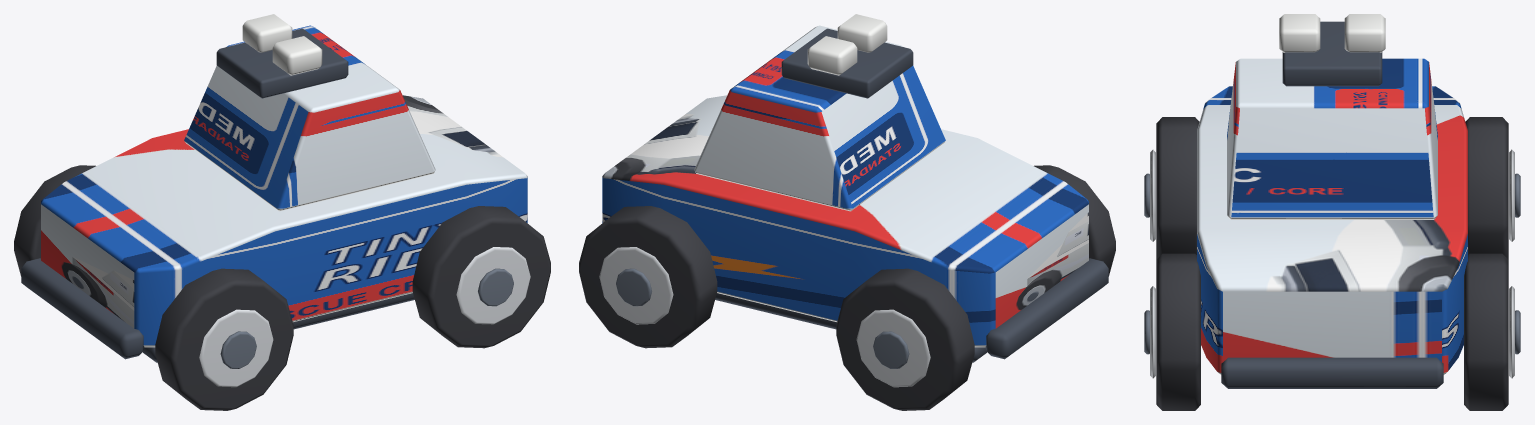
3 renders of one model, left to right at view 1: azimuth 30°, elevation 25°; view 2: azimuth 150°, elevation 25°; view 3: azimuth 270°, elevation 25°, orthographic. The views are drawn at different scales.
Parts seen in each view (by area): view 1: RC-02_connected_shell, RC-02_cabin, Tire, Tire.002, front bumper, beacon mount, Rim, Rim.002, Tire.001, beacon lens, beacon lens.001, underbody (+2 smaller); view 2: RC-02_connected_shell, RC-02_cabin, Tire.001, Tire.003, front bumper, beacon mount, Rim.001, Rim.003, Tire, beacon lens.001, beacon lens, underbody (+2 smaller); view 3: RC-02_connected_shell, RC-02_cabin, rear bumper, Tire.002, Tire.003, Tire, Tire.001, beacon mount, beacon lens, beacon lens.001, Rim.002, Rim.003 (+2 smaller).
Boxes of the visible parts, x1=… form: RC-02_connected_shell: x1=41, y1=95, x2=527, y2=347; RC-02_cabin: x1=184, y1=25, x2=435, y2=211; Tire: x1=155, y1=268, x2=293, y2=410; Tire.002: x1=412, y1=206, x2=550, y2=348; front bumper: x1=21, y1=258, x2=144, y2=359; beacon mount: x1=216, y1=28, x2=348, y2=98; Rim: x1=199, y1=309, x2=273, y2=387; Rim.002: x1=456, y1=247, x2=530, y2=324; Tire.001: x1=14, y1=165, x2=95, y2=276; beacon lens: x1=272, y1=36, x2=322, y2=75; beacon lens.001: x1=242, y1=14, x2=292, y2=52; underbody: x1=142, y1=293, x2=414, y2=362; RC-02_connected_shell: x1=602, y1=95, x2=1088, y2=347; RC-02_cabin: x1=694, y1=25, x2=945, y2=211; Tire.001: x1=836, y1=268, x2=974, y2=410; Tire.003: x1=579, y1=206, x2=717, y2=348; front bumper: x1=985, y1=258, x2=1108, y2=359; beacon mount: x1=781, y1=28, x2=913, y2=98; Rim.001: x1=856, y1=309, x2=930, y2=387; Rim.003: x1=599, y1=247, x2=673, y2=324; Tire: x1=1034, y1=165, x2=1115, y2=276; beacon lens.001: x1=807, y1=36, x2=857, y2=75; beacon lens: x1=837, y1=14, x2=887, y2=52; underbody: x1=715, y1=293, x2=987, y2=362; RC-02_connected_shell: x1=1197, y1=86, x2=1467, y2=374; RC-02_cabin: x1=1227, y1=58, x2=1437, y2=219; rear bumper: x1=1221, y1=357, x2=1443, y2=388; Tire.002: x1=1156, y1=253, x2=1200, y2=410; Tire.003: x1=1464, y1=253, x2=1508, y2=410; Tire: x1=1156, y1=117, x2=1199, y2=259; Tire.001: x1=1465, y1=117, x2=1508, y2=259; beacon mount: x1=1282, y1=21, x2=1382, y2=86; beacon lens: x1=1279, y1=14, x2=1320, y2=52; beacon lens.001: x1=1344, y1=14, x2=1385, y2=52; Rim.002: x1=1150, y1=286, x2=1155, y2=378; Rim.003: x1=1509, y1=286, x2=1514, y2=378.
Size of the model in its own units: 308 by 201 by 219.
